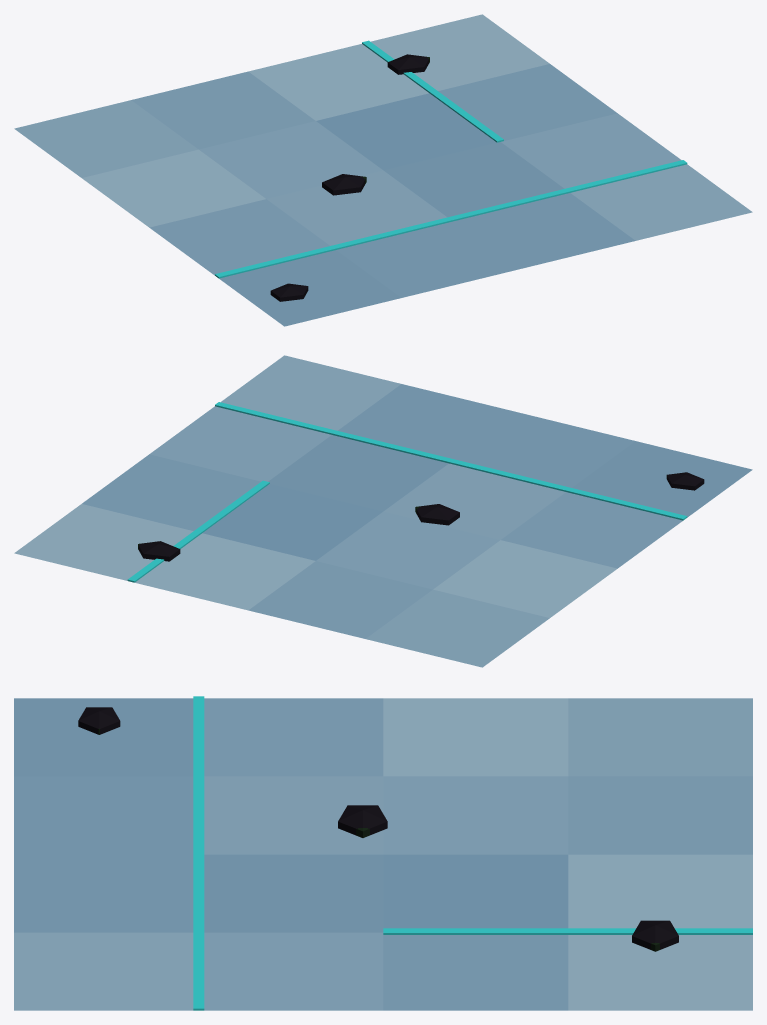
The model's file is ice_floor.glb.
3 views of the same model, one above another, from view 1: azimuth 30°, elevation 25°; view 2: azimuth 150°, elevation 25°; view 3: azimuth 270°, elevation 25° (orthographic). The views are drawn at different scales.
Visible parts, largest first — view 1: ice_floor; view 2: ice_floor; view 3: ice_floor.
Part boxes in pixels (x1,y1,x2,y2): ice_floor: (14, 14, 752, 326); ice_floor: (14, 355, 752, 667); ice_floor: (14, 696, 752, 1010).
Bounding box in the file's own units: 2 × 0.0817 × 2.
Materials: 3 (1 with a texture image).
